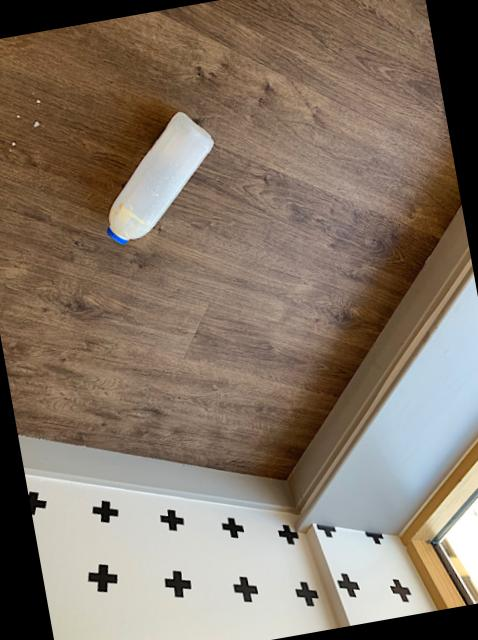plastic: (104, 113, 211, 244)
